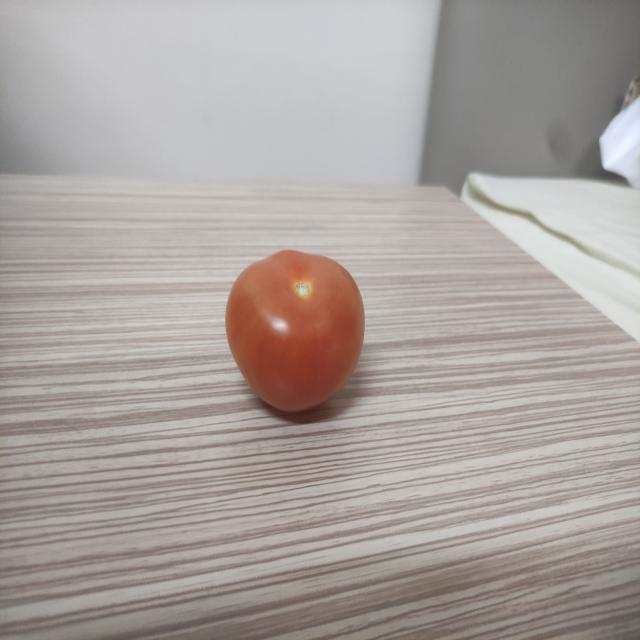sari: (219, 234, 378, 428)
